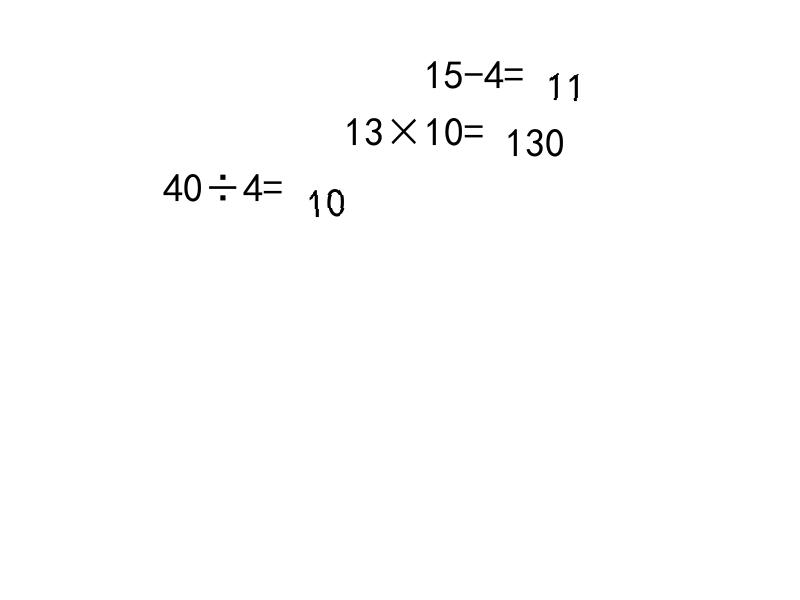-: (464, 54, 484, 82)
0: (444, 111, 464, 141), (534, 111, 554, 141), (183, 167, 203, 196), (313, 167, 333, 196)
1: (344, 111, 364, 141), (424, 111, 444, 141), (494, 111, 514, 141), (293, 167, 313, 196), (424, 54, 444, 82), (534, 54, 554, 82), (554, 54, 574, 82)
3: (364, 111, 384, 141), (514, 111, 534, 141)
4: (163, 167, 183, 196), (243, 167, 263, 196), (484, 54, 504, 82)
5: (444, 54, 464, 82)
=: (464, 111, 484, 141), (263, 167, 283, 196), (504, 54, 524, 82)
×: (384, 111, 424, 141)
÷: (203, 167, 243, 196)
